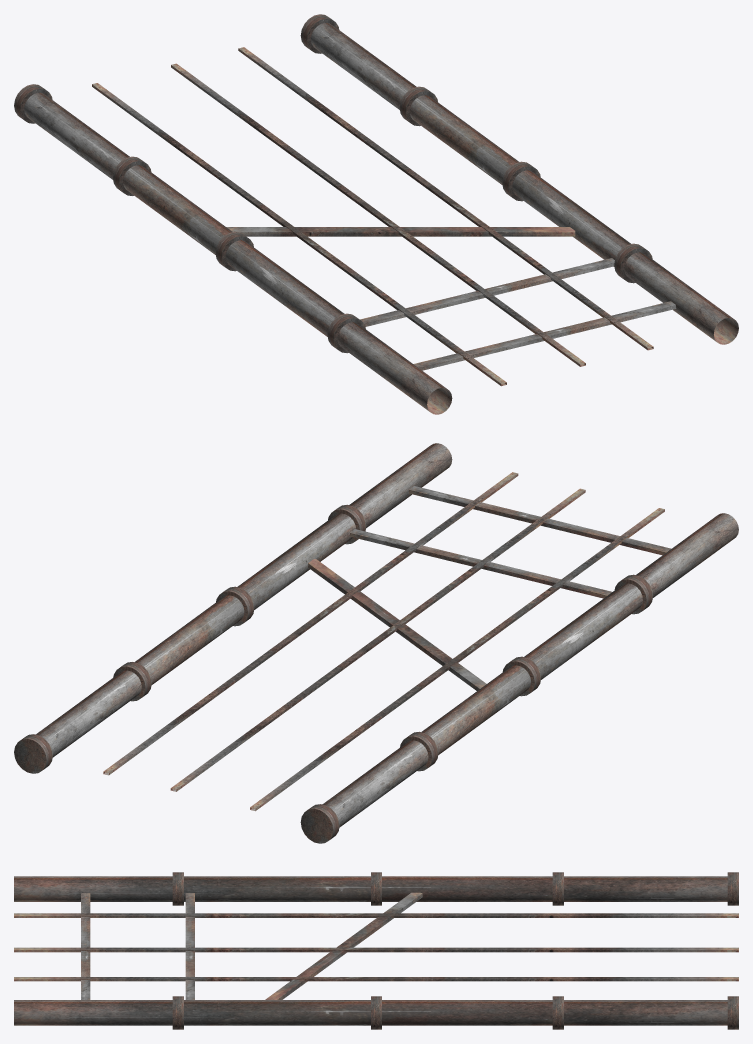
Rendered from pipe_04.FBX.
3 renders of one model, top to bottom at view 1: azimuth 30°, elevation 25°; view 2: azimuth 150°, elevation 25°; view 3: azimuth 270°, elevation 25°, orthographic. The views are drawn at different scales.
Parts seen in each view (by area): view 1: pipe_04; view 2: pipe_04; view 3: pipe_04.
Part boxes in pixels (<box>): pipe_04: <box>14,14,738,414</box>; pipe_04: <box>14,443,738,843</box>; pipe_04: <box>14,872,738,1029</box>.
Size of the model in its own units: 45.05 by 4.54 by 100.
